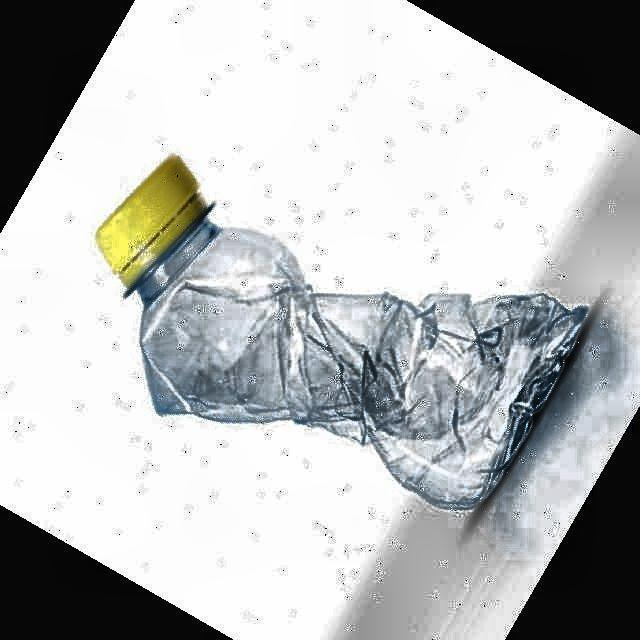plastic: (98, 155, 588, 509)
